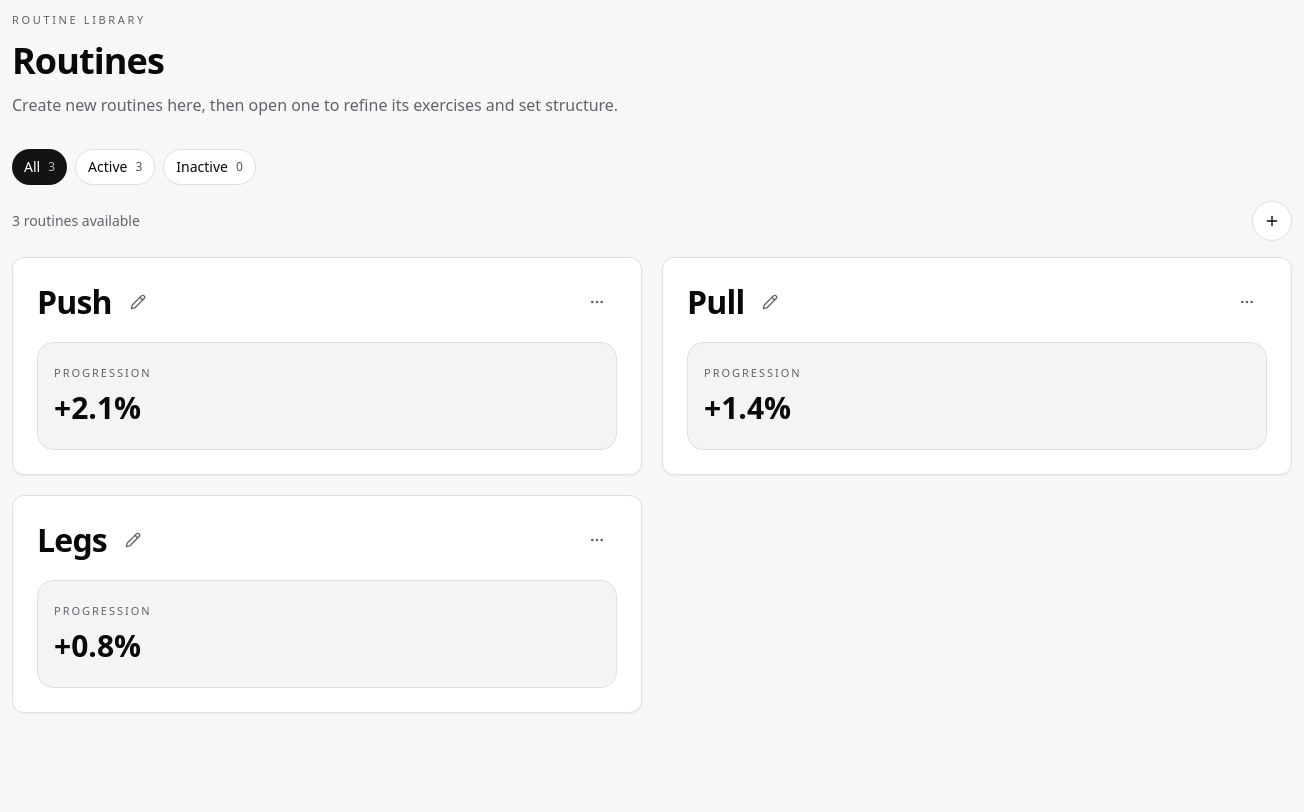
Scenario: RoutinesPage › opens and closes the create routine form accessibly
Step 1. Click the button named "create new" → (1272, 220), box top-left (1252, 200), bottom-right (1292, 240)
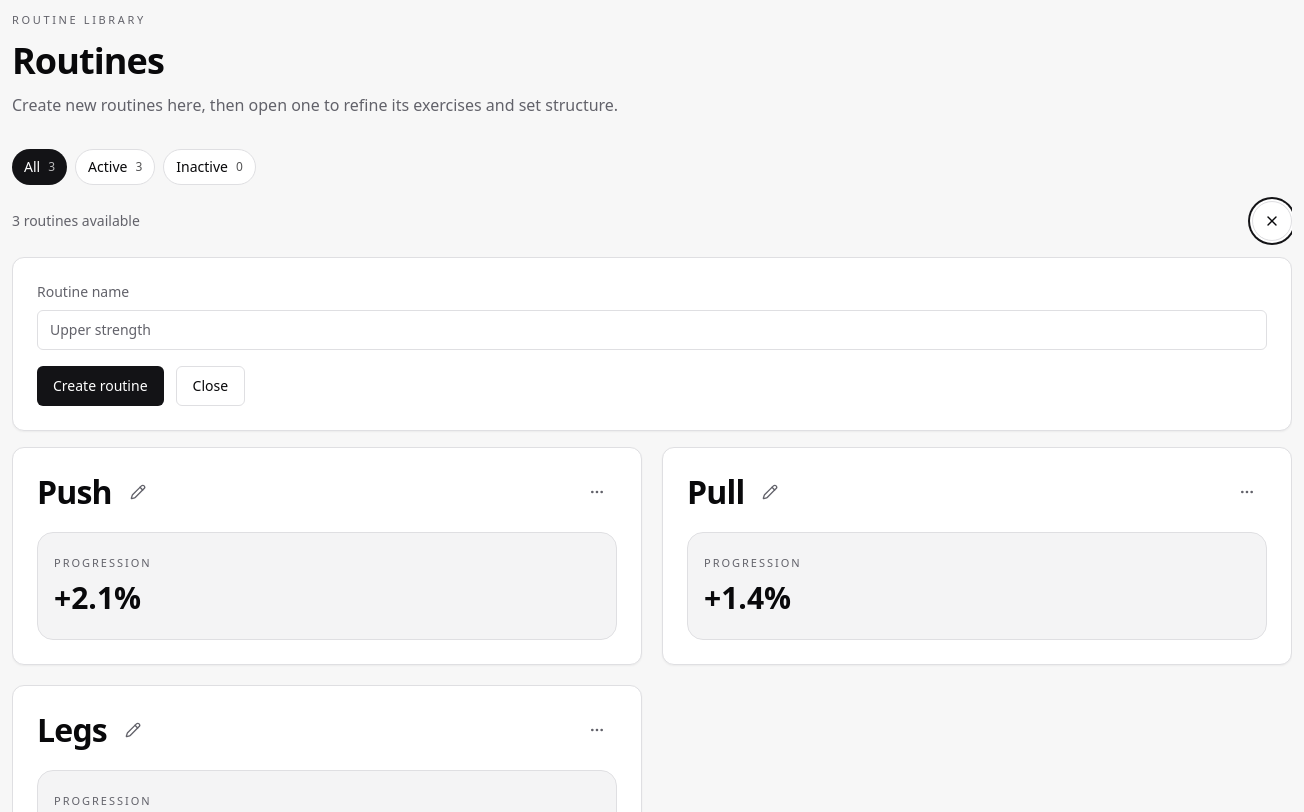
Check: the button named "create new" is expanded
Step 2. Click the button named "cancel" → (1272, 220), box top-left (1252, 200), bottom-right (1292, 240)
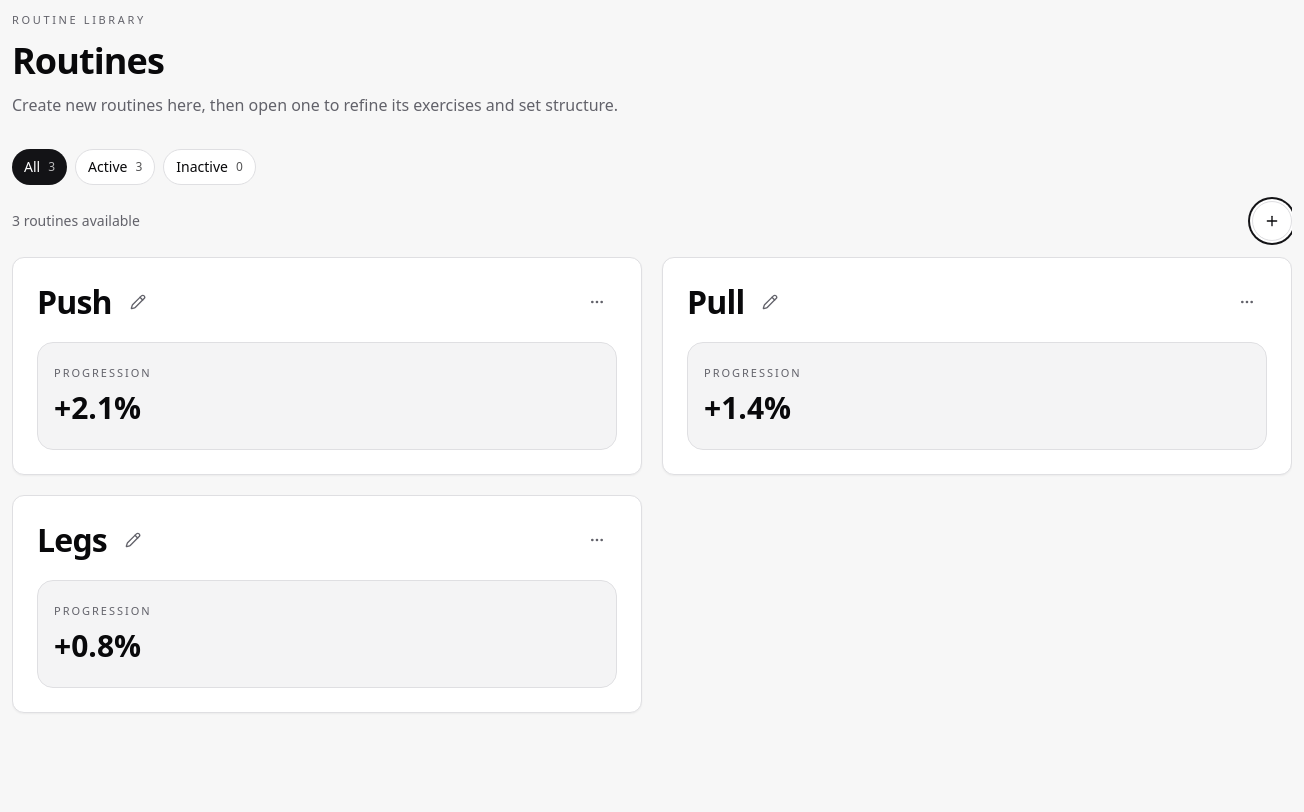
Check: the button named "create new" is collapsed, box top-left (1252, 200), bottom-right (1292, 240)
